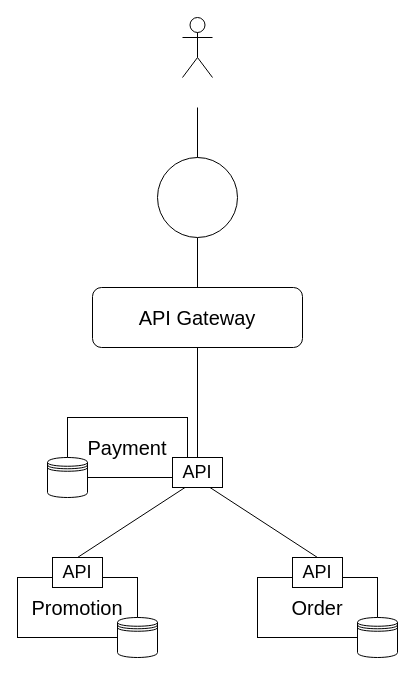
The diagram is 415 pixels wide and 675 high, and some of its shapes have lost their labels. Each missing label, with the box of its shape:
User: (182, 16, 212, 78)
Web: (156, 156, 238, 238)
